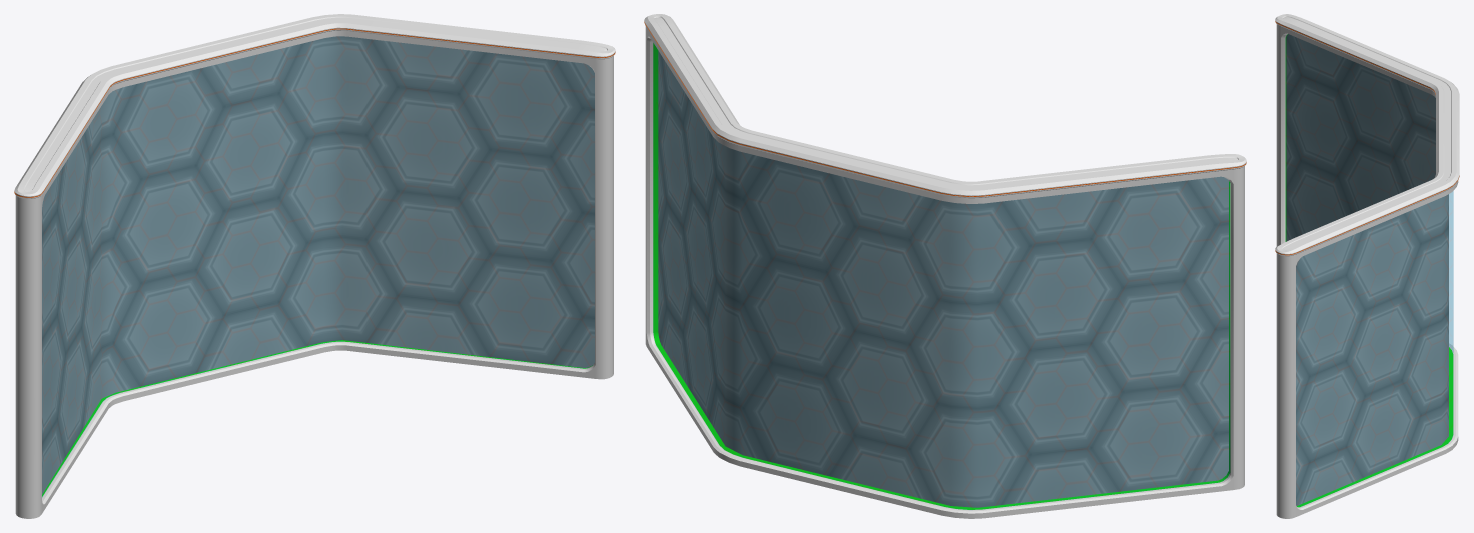
The model's file is sm_wall_180_screen_updated.fbx.
3 renders of one model, left to right at view 1: azimuth 30°, elevation 25°; view 2: azimuth 150°, elevation 25°; view 3: azimuth 270°, elevation 25°, orthographic. The views are drawn at different scales.
Visible parts, largest first — view 1: sm_wall_medium_screen.020; view 2: sm_wall_medium_screen.020; view 3: sm_wall_medium_screen.020.
Boxes of the visible parts, bbox=[...] form: sm_wall_medium_screen.020: bbox=[14, 14, 615, 518]; sm_wall_medium_screen.020: bbox=[644, 14, 1246, 518]; sm_wall_medium_screen.020: bbox=[1275, 14, 1459, 518].
Bounding box in the file's own units: 1445 × 755 × 470.
